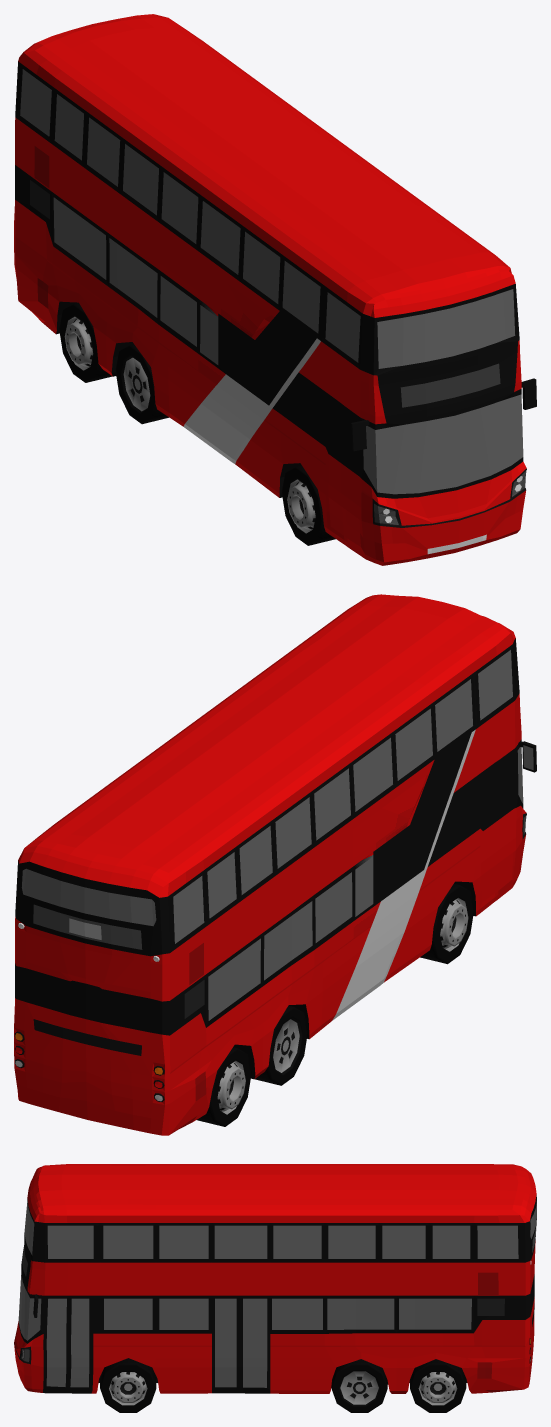
The model's file is bus.glb.
3 renders of one model, top to bottom at view 1: azimuth 30°, elevation 25°; view 2: azimuth 150°, elevation 25°; view 3: azimuth 270°, elevation 25°, orthographic. The views are drawn at different scales.
Visible parts, largest first — view 1: BusBody, WheelBack, WheelRightFront, Mirror; view 2: BusBody, WheelBack, WheelRightFront; view 3: BusBody, WheelBack, WheelLeftFront.
Boxes of the visible parts, <box> form: BusBody: <box>14,14,526,565</box>; WheelBack: <box>59,303,168,424</box>; WheelRightFront: <box>281,465,335,545</box>; Mirror: <box>351,378,536,451</box>; BusBody: <box>14,594,526,1135</box>; WheelBack: <box>197,1005,307,1126</box>; WheelRightFront: <box>420,884,473,964</box>; BusBody: <box>14,1164,536,1393</box>; WheelBack: <box>331,1359,466,1412</box>; WheelLeftFront: <box>100,1358,156,1412</box>.
Size of the model in its own units: 6.34 by 9.64 by 22.41.
Materials: 1 (1 with a texture image).
